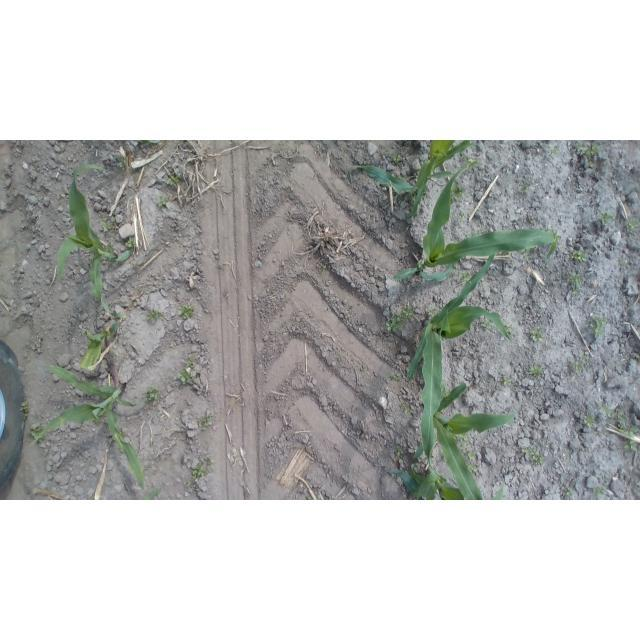Maize: (404, 248, 517, 462), (388, 165, 562, 289), (31, 360, 154, 492), (418, 365, 527, 500), (52, 164, 139, 320), (346, 141, 476, 219), (385, 459, 510, 500), (75, 317, 124, 372)
Weeds: (385, 306, 414, 333), (191, 458, 213, 482), (521, 446, 547, 466), (566, 270, 584, 296), (589, 317, 607, 340), (196, 413, 216, 432), (466, 449, 479, 478), (571, 355, 589, 375), (574, 144, 600, 157), (450, 183, 466, 204), (176, 369, 194, 387), (569, 358, 586, 377), (569, 249, 590, 264), (101, 216, 118, 234), (622, 217, 638, 236), (178, 303, 197, 319), (29, 423, 45, 442), (166, 172, 185, 188), (528, 364, 545, 381), (145, 387, 162, 403), (531, 324, 546, 342), (598, 210, 614, 226), (146, 308, 162, 324), (583, 413, 598, 430), (18, 401, 32, 419), (620, 423, 639, 436), (613, 406, 628, 422), (155, 196, 171, 211), (622, 439, 638, 453), (183, 355, 197, 370), (125, 236, 138, 252), (455, 432, 472, 444), (464, 156, 478, 170), (600, 404, 613, 419), (578, 353, 590, 369), (394, 444, 406, 460), (594, 485, 607, 499), (440, 381, 450, 399), (519, 184, 532, 197), (389, 370, 403, 382), (480, 318, 492, 330), (502, 377, 515, 388), (402, 404, 413, 417), (460, 272, 473, 283), (392, 154, 405, 165), (117, 155, 126, 170), (459, 210, 468, 224), (428, 307, 439, 318), (357, 364, 368, 375), (335, 354, 346, 365), (563, 486, 573, 498), (549, 146, 561, 156), (619, 257, 629, 269), (521, 249, 532, 259), (407, 191, 417, 202), (184, 480, 196, 488), (129, 262, 139, 270)
